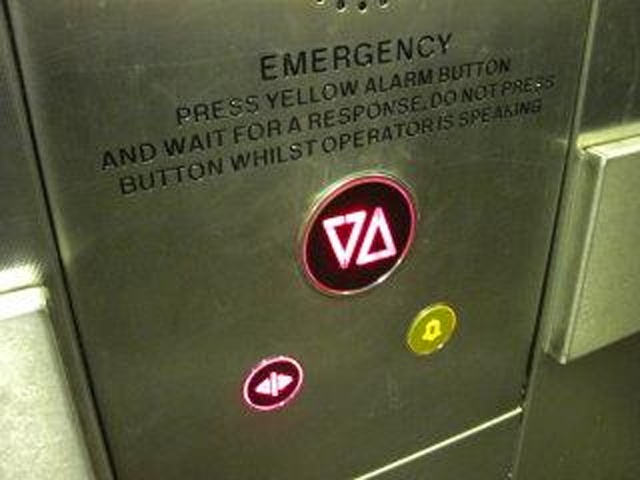alarm: (404, 300, 458, 359)
open: (242, 353, 305, 415)
updown: (292, 169, 417, 300)
